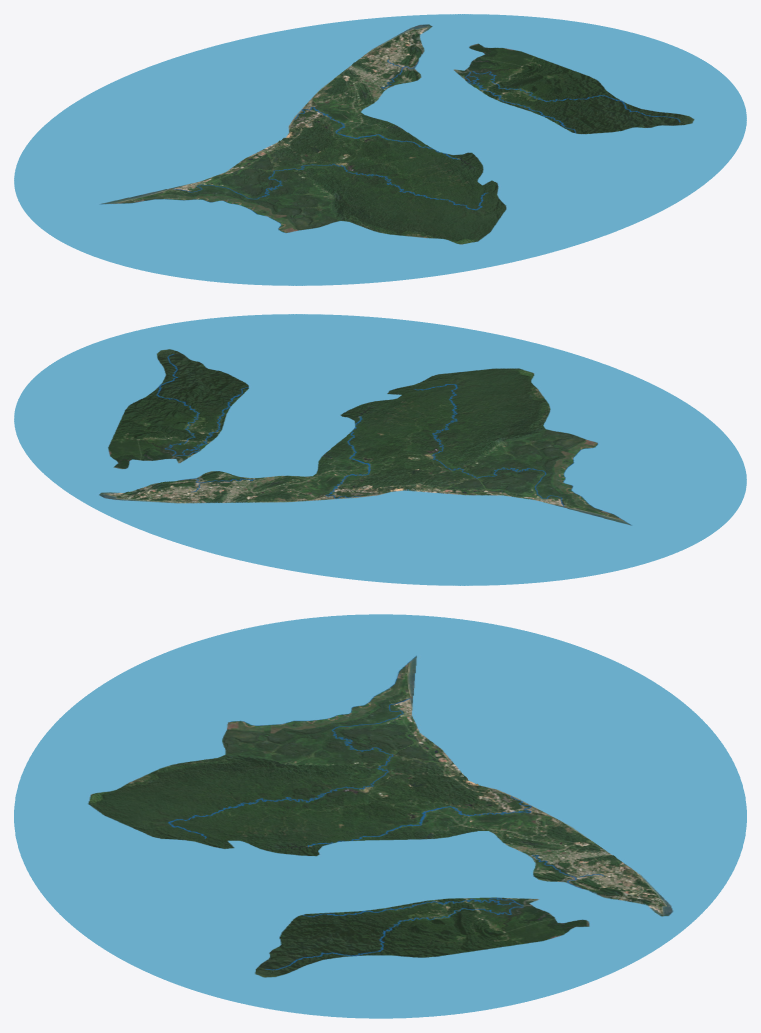
Rendered from BRN-previa-terrain.glb.
3 views of the same model, one above another, from view 1: azimuth 30°, elevation 25°; view 2: azimuth 150°, elevation 25°; view 3: azimuth 270°, elevation 25° (orthographic). The views are drawn at different scales.
Visible parts, largest first — view 1: Brunei; view 2: Brunei; view 3: Brunei.
Part boxes in pixels (left/top/right/bottom): Brunei: left=14, top=14, right=746, bottom=285; Brunei: left=14, top=314, right=746, bottom=585; Brunei: left=14, top=614, right=746, bottom=1018.
Bounding box in the file's own units: 2.2 × 0.0175 × 1.69.
Materials: 1 (1 with a texture image).
